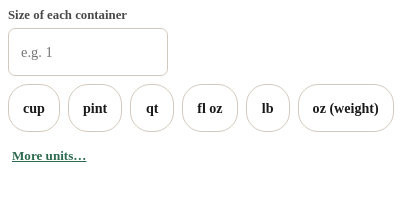
Test: AmountField — the control › Clear appears once either half is filled, and empties both
The image size is (411, 197).
Click the radio button labelled "qt". click: {"x": 152, "y": 108}
box: [130,84,174,132]
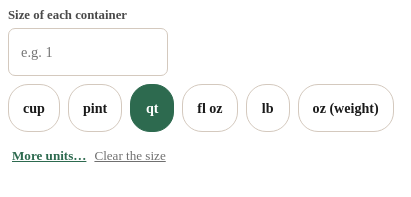
Check: the button with test id "t-clear" reads "Clear the size"
Click the button with test id "t-clear". click: {"x": 130, "y": 156}
box: [90,132,170,180]
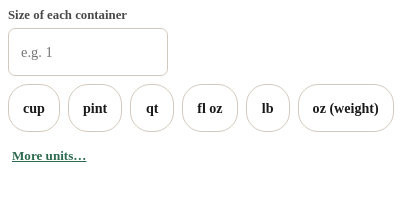
Check: the field with test id "t-value" is empty, box [8,28,168,76]
Check: the button with test id "t-clear" is gone
